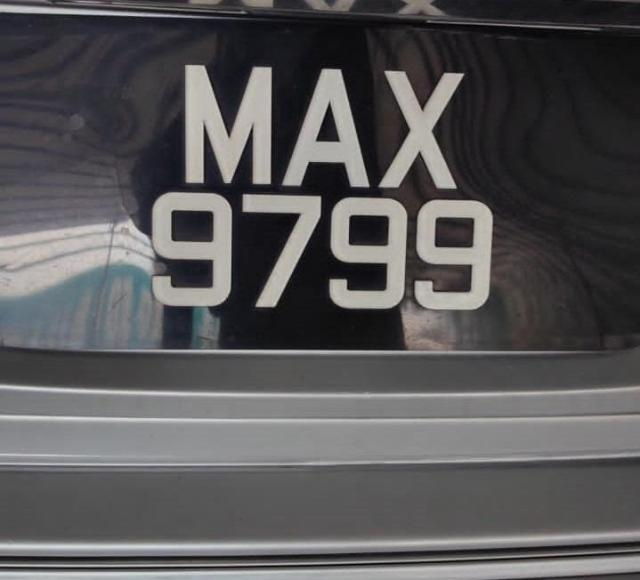License_Plate: (8, 15, 640, 347)
